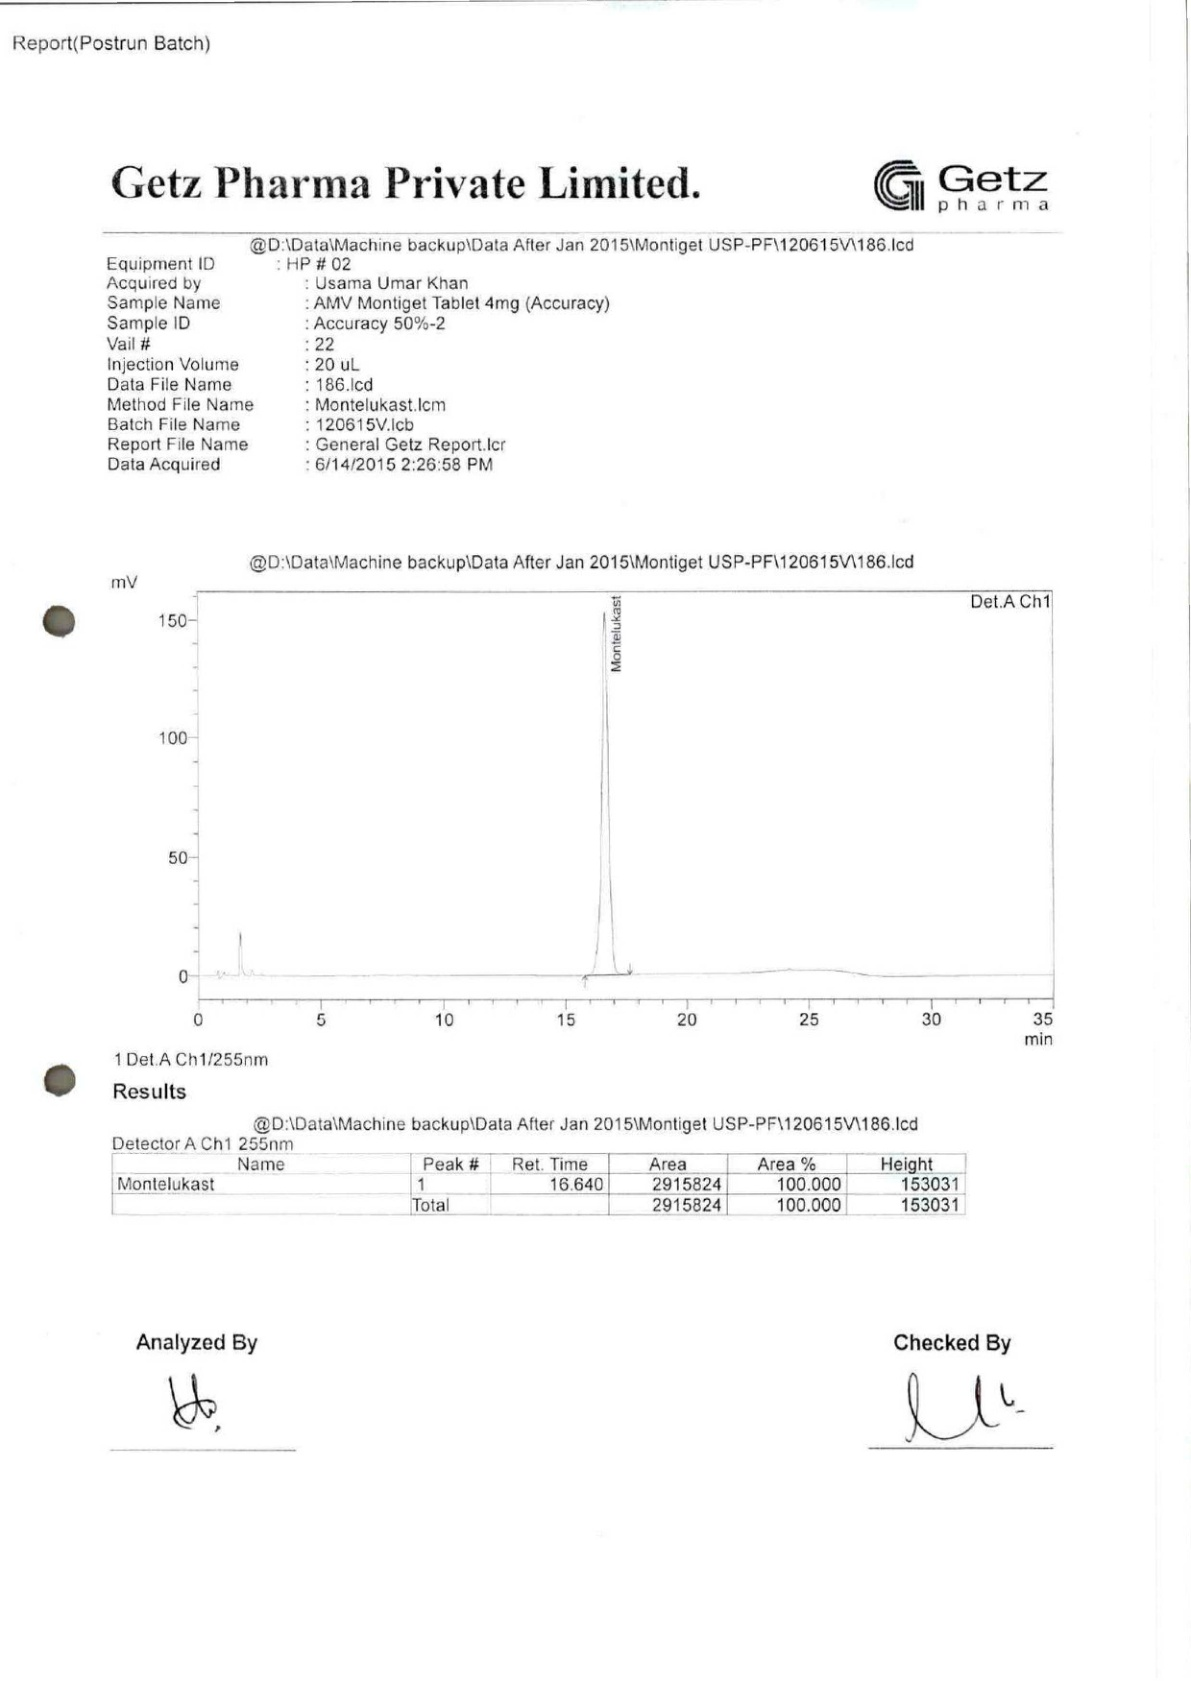full_lined: (111, 1151, 968, 1217)
nolines: (101, 253, 614, 476)
